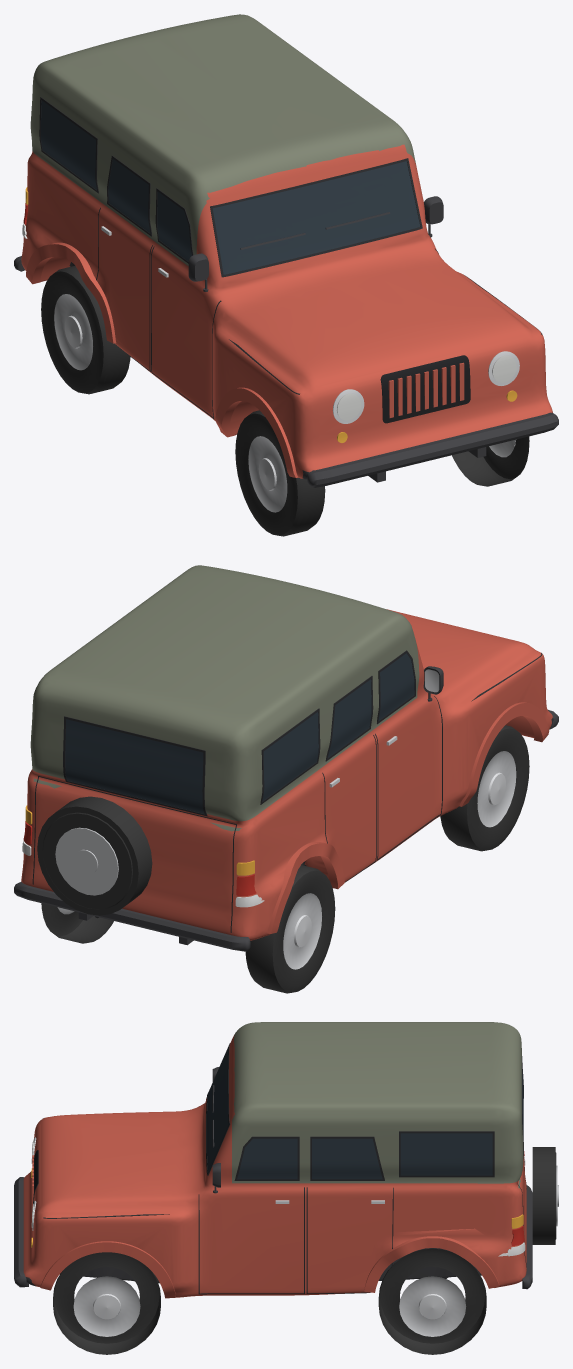
File: uaz469.glb
The picture shows the model from 3 angles, top to bottom: view 1: azimuth 30°, elevation 25°; view 2: azimuth 150°, elevation 25°; view 3: azimuth 270°, elevation 25°; orthographic projection. The views are drawn at different scales.
Visible parts, largest first — view 1: paint, glass, trim, wheel_rr, wheel_fr, wheel_fl, mirrors, headlights; view 2: paint, trim, glass, wheel_rr, wheel_fr, wheel_rl, mirrors, taillights; view 3: paint, trim, glass, wheel_rl, wheel_fl.
Part boxes in pixels (x1,y1,x2,y2): paint: [21, 14, 552, 479]; glass: [41, 100, 420, 274]; trim: [14, 97, 558, 487]; wheel_rr: [41, 266, 130, 394]; wheel_fr: [235, 410, 325, 536]; wheel_fl: [452, 436, 529, 486]; mirrors: [188, 196, 443, 291]; headlights: [337, 355, 516, 420]; paint: [21, 565, 553, 940]; trim: [14, 650, 558, 951]; glass: [65, 653, 414, 813]; wheel_rr: [245, 865, 335, 993]; wheel_fr: [440, 725, 529, 851]; wheel_rl: [41, 903, 113, 943]; mirrors: [423, 666, 443, 701]; taillights: [23, 821, 256, 895]; paint: [23, 1022, 526, 1297]; trim: [14, 1043, 558, 1298]; glass: [207, 1047, 523, 1179]; wheel_rl: [378, 1248, 486, 1354]; wheel_fl: [53, 1252, 160, 1354].
Size of the model in its own units: 1.81 by 2.01 by 3.98.
